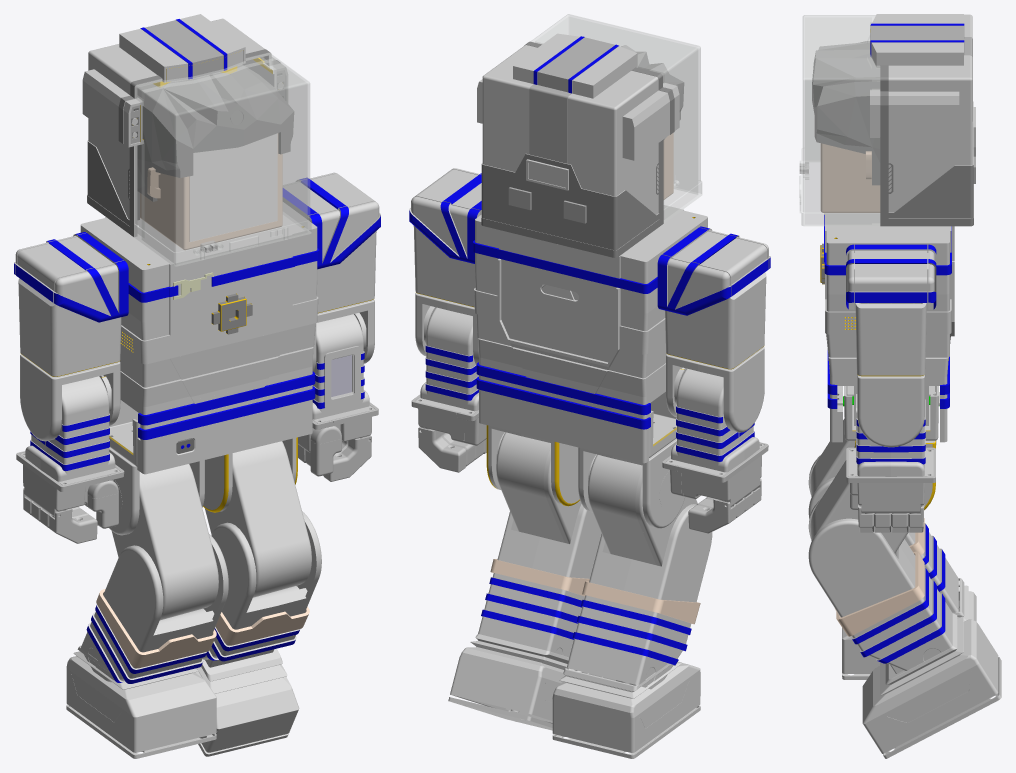
Rendered from zbh.glb.
3 views of the same model, side by side, from view 1: azimuth 30°, elevation 25°; view 2: azimuth 150°, elevation 25°; view 3: azimuth 270°, elevation 25° (orthographic). The views are drawn at different scales.
Visible parts, largest first — view 1: 外壳_id366_x_t, 外壳_id170_x_t, 外壳_id362_x_t, 外壳_id194_x_t, 外壳_id90_x_t, 外壳_id346_x_t, 外壳_id122_x_t, 外壳_id294_x_t, 外壳_id34_x_t, 外壳_id114_x_t, 外壳_id274_x_t, 外壳_id222_x_t (+36 smaller); view 2: 外壳_id362_x_t, 外壳_id166_x_t, 外壳_id190_x_t, 外壳_id366_x_t, 外壳_id314_x_t, 外壳_id34_x_t, 外壳_id298_x_t, 外壳_id270_x_t, 外壳_id114_x_t, 外壳_id14_x_t, 外壳_id254_x_t, 外壳_id294_x_t (+33 smaller); view 3: 外壳_id362_x_t, 外壳_id366_x_t, 外壳_id222_x_t, 外壳_id90_x_t, 外壳_id38_x_t, 外壳_id30_x_t, 外壳_id298_x_t, 外壳_id170_x_t, 外壳_id158_x_t, 外壳_id226_x_t, 外壳_id166_x_t, 外壳_id342_x_t (+19 smaller).
Boxes of the visible parts, x1,y1,x2,y2 form: 外壳_id366_x_t: (134,53,311,266); 外壳_id170_x_t: (109,204,318,387); 外壳_id362_x_t: (82,14,287,236); 外壳_id194_x_t: (120,347,313,474); 外壳_id90_x_t: (137,64,294,201); 外壳_id346_x_t: (189,133,277,241); 外壳_id122_x_t: (139,464,218,619); 外壳_id294_x_t: (234,441,311,597); 外壳_id34_x_t: (18,278,121,376); 外壳_id114_x_t: (103,534,228,652); 外壳_id274_x_t: (40,376,120,485); 外壳_id222_x_t: (195,648,299,731); 外壳_id362_x_t: (477,33,679,257); 外壳_id166_x_t: (474,215,676,378); 外壳_id190_x_t: (478,338,665,463); 外壳_id366_x_t: (531,14,701,222); 外壳_id314_x_t: (566,595,691,689); 外壳_id34_x_t: (665,272,766,369); 外壳_id298_x_t: (478,573,584,657); 外壳_id270_x_t: (666,368,744,475); 外壳_id114_x_t: (589,504,712,602); 外壳_id14_x_t: (552,661,700,728); 外壳_id254_x_t: (415,307,478,414); 外壳_id294_x_t: (496,432,564,542); 外壳_id362_x_t: (870,14,975,226); 外壳_id366_x_t: (799,15,880,225); 外壳_id222_x_t: (862,613,980,726); 外壳_id90_x_t: (812,41,880,185); 外壳_id38_x_t: (808,498,915,617); 外壳_id30_x_t: (855,303,926,376); 外壳_id298_x_t: (851,567,952,670); 外壳_id170_x_t: (825,213,890,357); 外壳_id158_x_t: (855,244,927,302); 外壳_id226_x_t: (865,628,998,753); 外壳_id166_x_t: (891,226,954,357); 外壳_id342_x_t: (820,143,880,212).
Bounding box in the file's own units: 0.2226 × 0.4602 × 0.1231.
